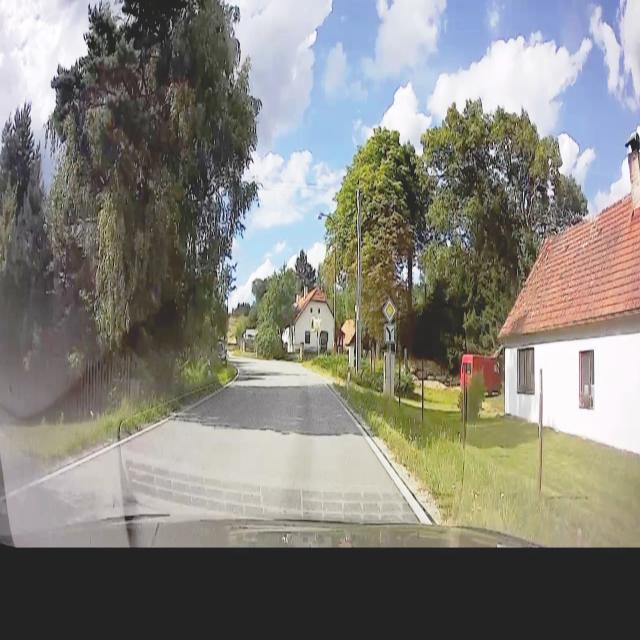Priority road: (382, 293, 399, 324)
